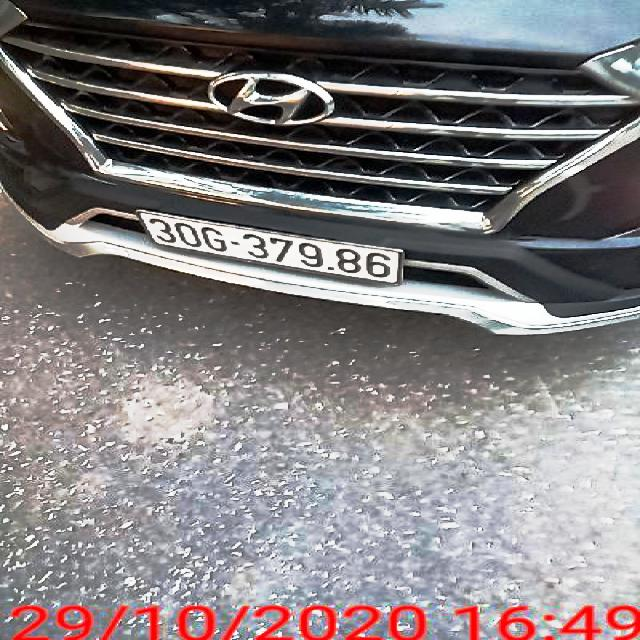license_plate: (135, 210, 410, 288)
